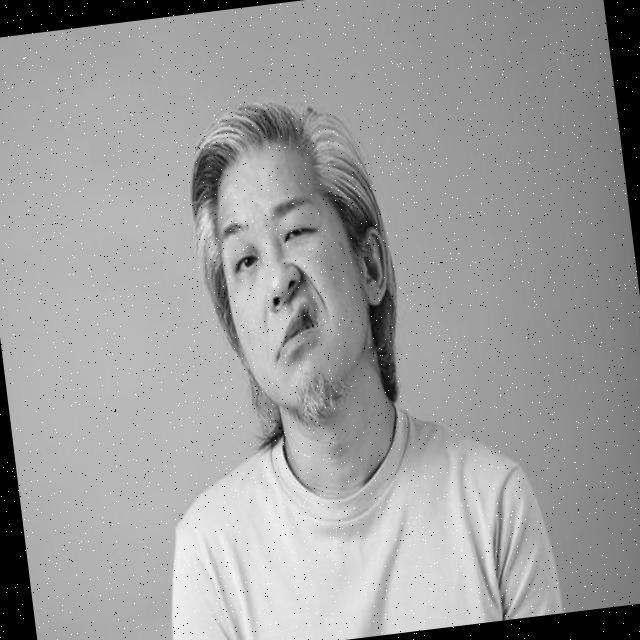Disgust: (208, 136, 382, 436)
